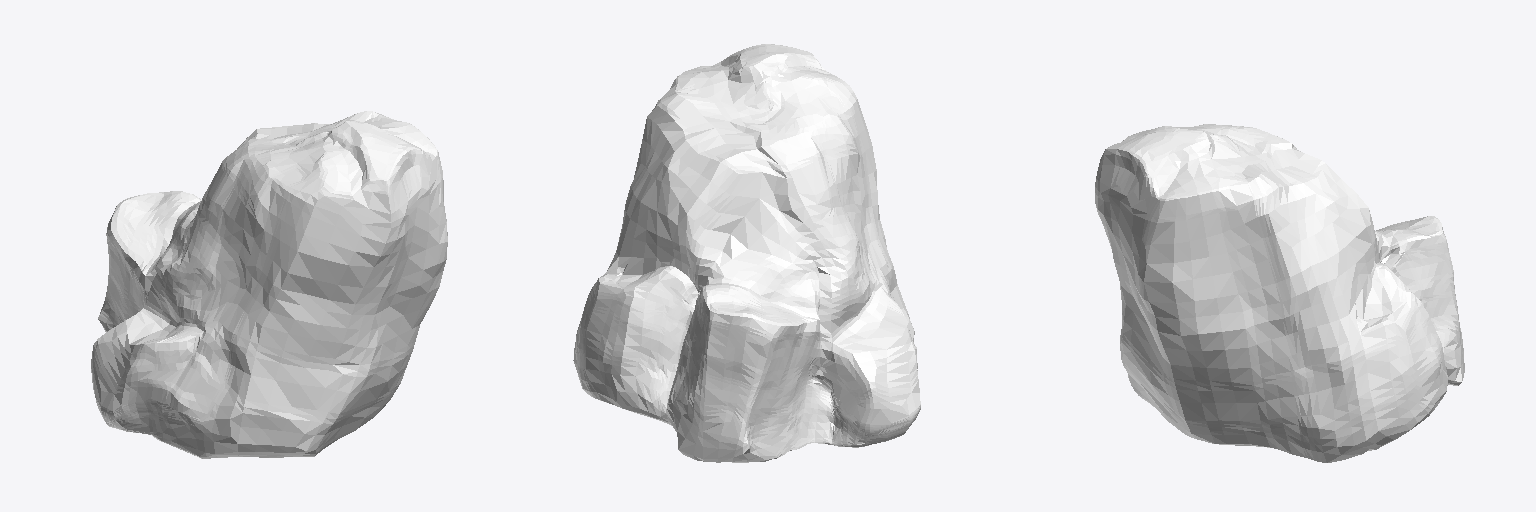
File: rock2.obj
3 views of the same model, side by side, from view 1: azimuth 30°, elevation 25°; view 2: azimuth 150°, elevation 25°; view 3: azimuth 270°, elevation 25° (orthographic).
Visible parts, largest first — view 1: RetopoGroup1; view 2: RetopoGroup1; view 3: RetopoGroup1.
Boxes of the visible parts, <box> form: RetopoGroup1: <box>91,111,447,458</box>; RetopoGroup1: <box>573,44,920,462</box>; RetopoGroup1: <box>1095,124,1464,462</box>.
Size of the model in its own units: 13.03 by 12.53 by 14.01.